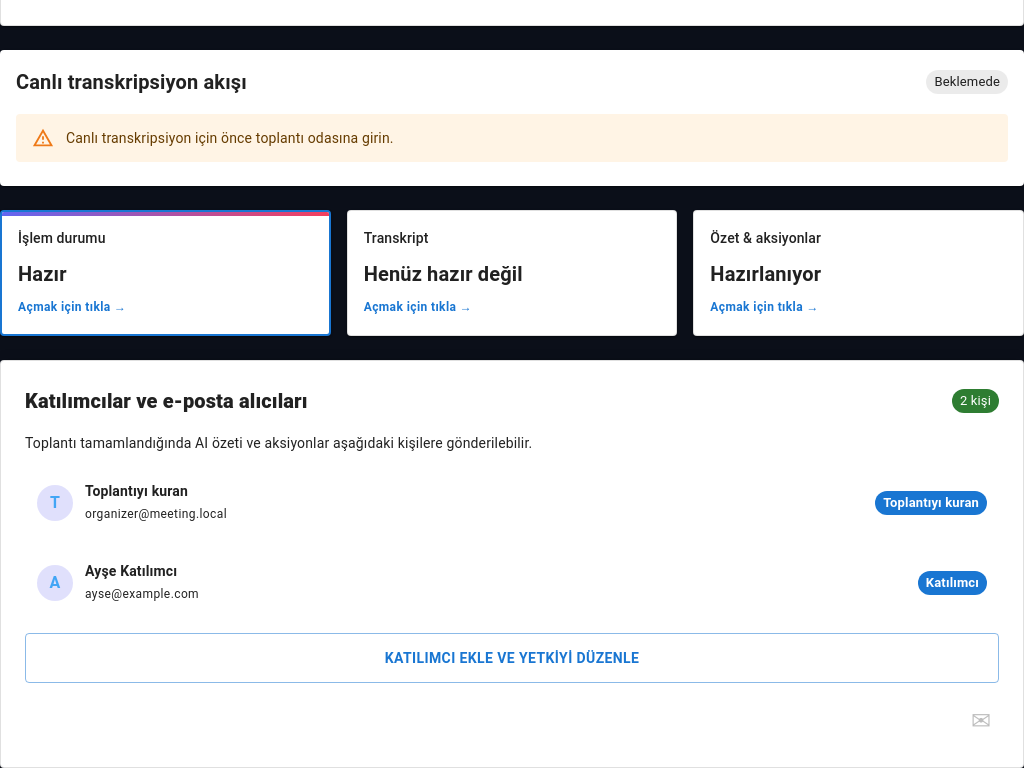
MeetingDetailPage işlem durumu › toplantı sahibi katılımcı yönetimi ve konuşmacı onay kontrollerini görür
(page scrolled)
Click the button "Katılımcı ekle ve yetkiyi düzenle" at (512, 658), box [25,633,999,684]
(page scrolled)
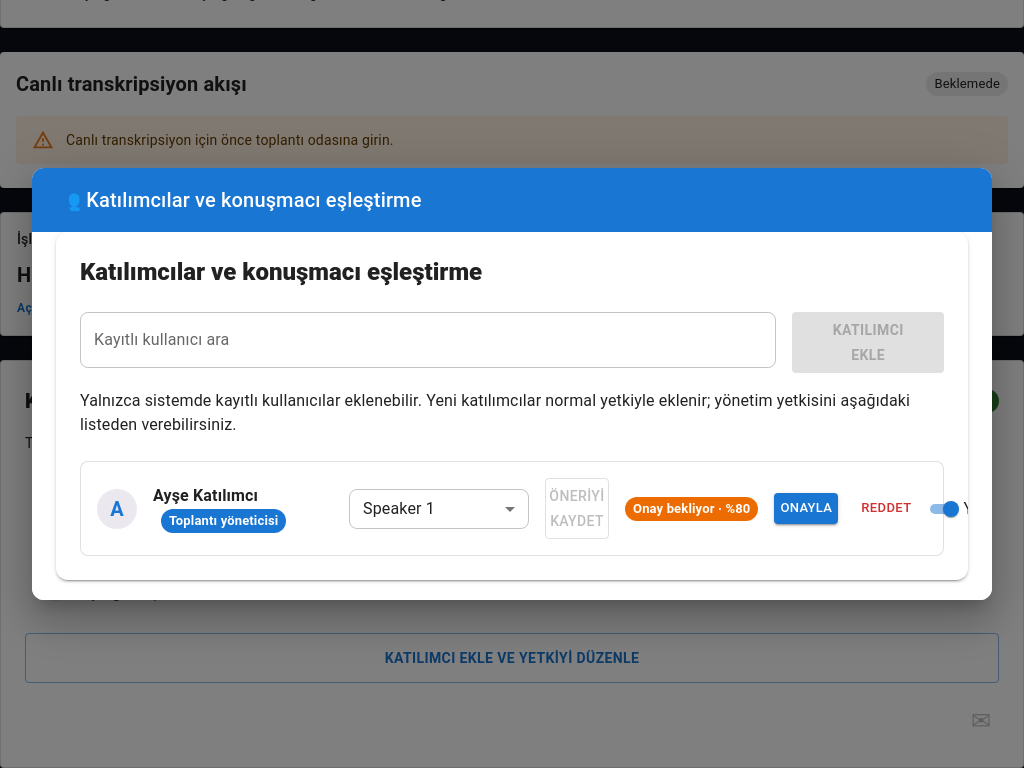
Expected: the button "Katılımcı ekle" is disabled, [792,312,944,373]
Expected: the text "Toplantı yöneticisi" is shown, [161,511,286,531]
Expected: the text "Onay bekliyor · %80" is shown, [625,499,758,518]
